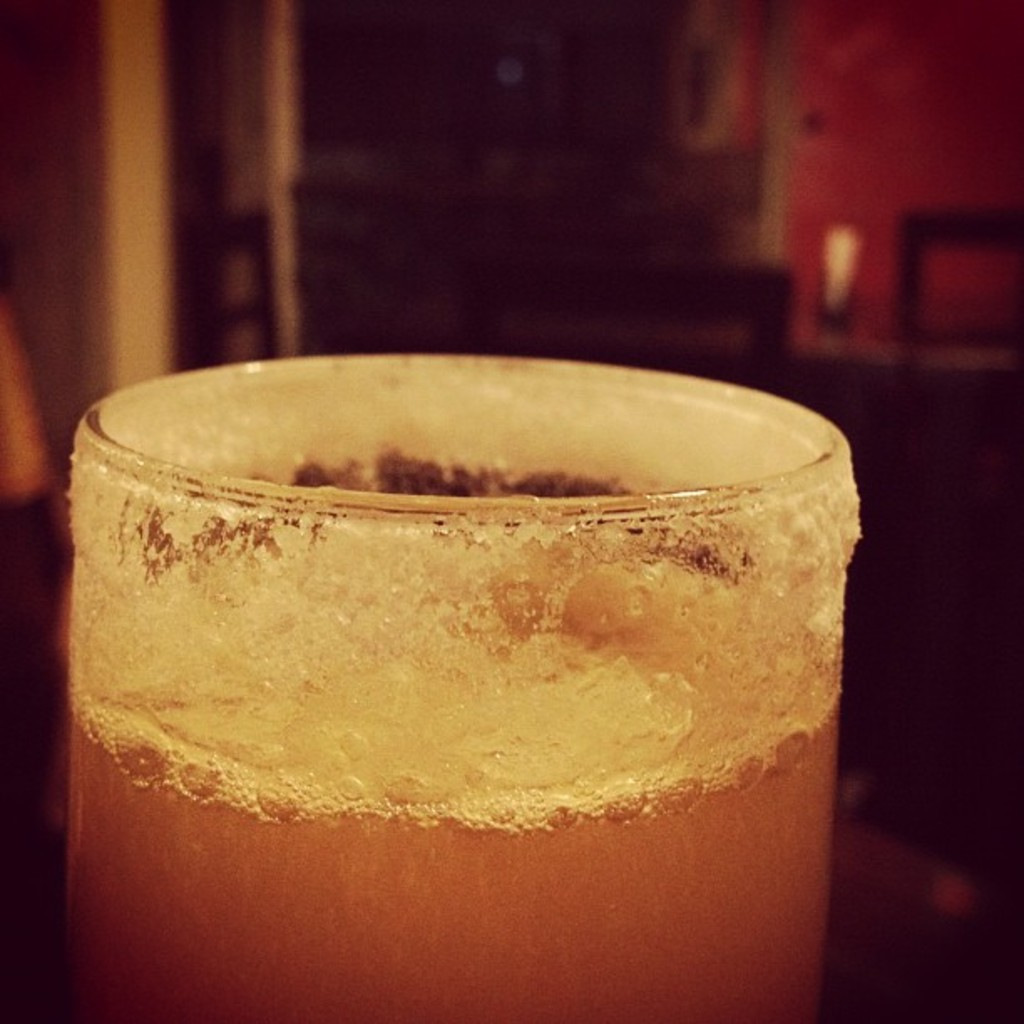Beer: (65, 617, 843, 1022)
